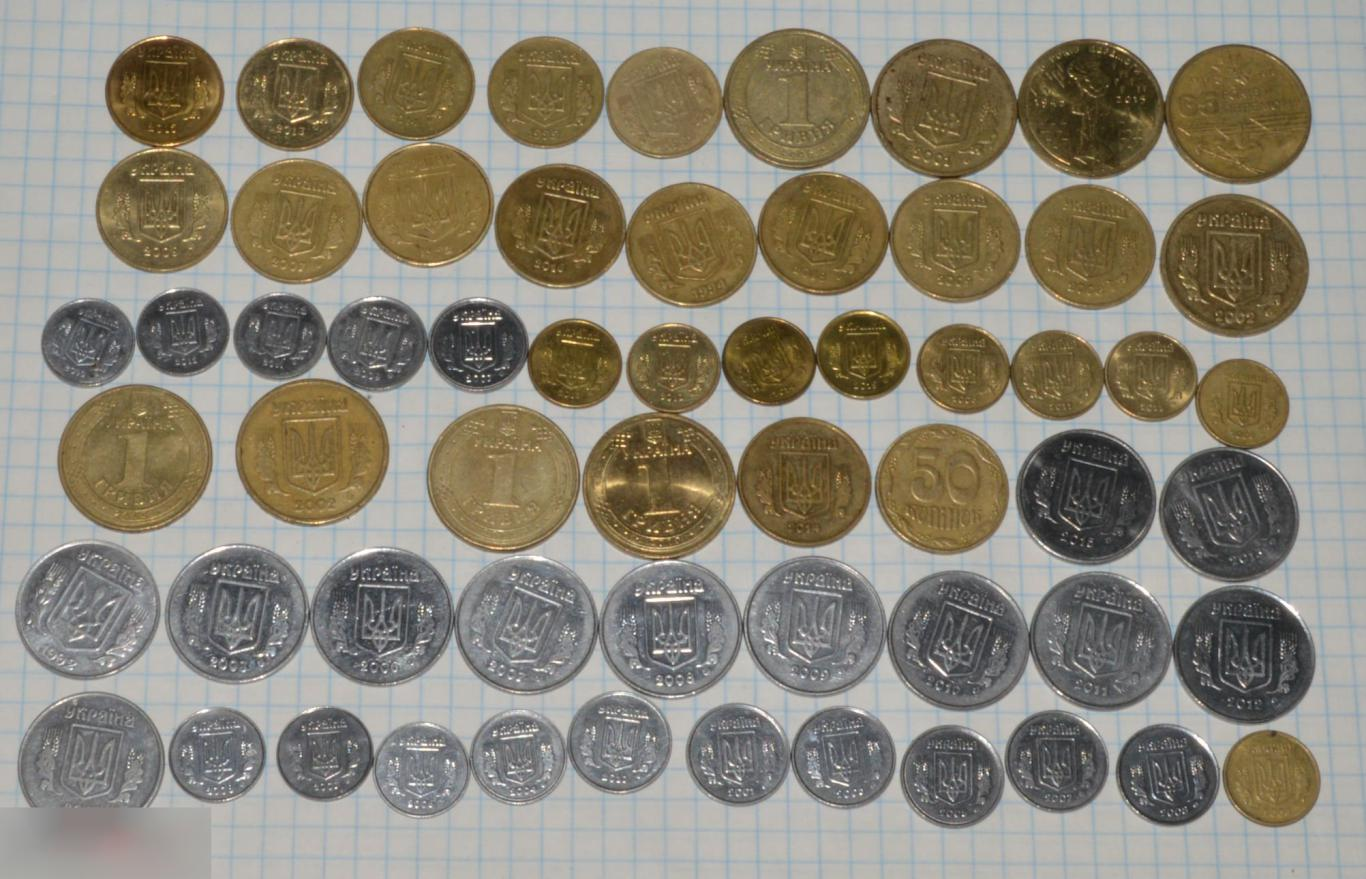coin_10: (1196, 360, 1288, 448), (627, 324, 719, 409), (819, 312, 911, 397), (921, 324, 1013, 409), (1011, 332, 1104, 416), (529, 322, 621, 406), (723, 316, 815, 400), (1108, 333, 1200, 417)
coin_1_bn: (726, 28, 865, 163), (873, 34, 1012, 168), (1018, 37, 1157, 171), (1166, 44, 1305, 178)
coin_25: (494, 160, 623, 286), (100, 148, 229, 274), (1027, 185, 1155, 311), (893, 179, 1021, 305), (627, 181, 755, 307), (231, 158, 359, 284), (760, 170, 888, 295), (364, 144, 492, 269)
coin_5: (165, 543, 310, 686), (884, 569, 1029, 712), (1030, 569, 1175, 712), (14, 541, 159, 683), (451, 553, 596, 695), (743, 558, 888, 700), (1170, 585, 1315, 727), (310, 546, 454, 688), (596, 559, 740, 701), (1159, 447, 1304, 579), (1013, 427, 1158, 559), (21, 692, 166, 807)
coin_50: (878, 429, 1009, 552), (743, 419, 874, 541)
